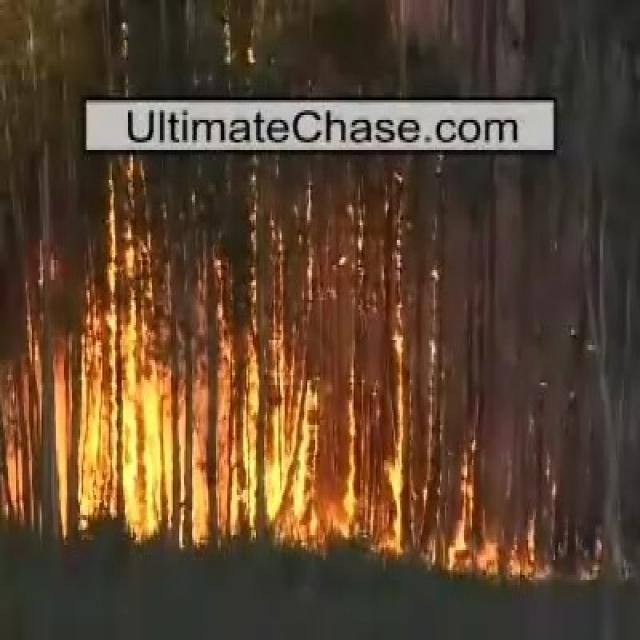fire: (124, 373, 168, 524), (264, 425, 297, 522)
